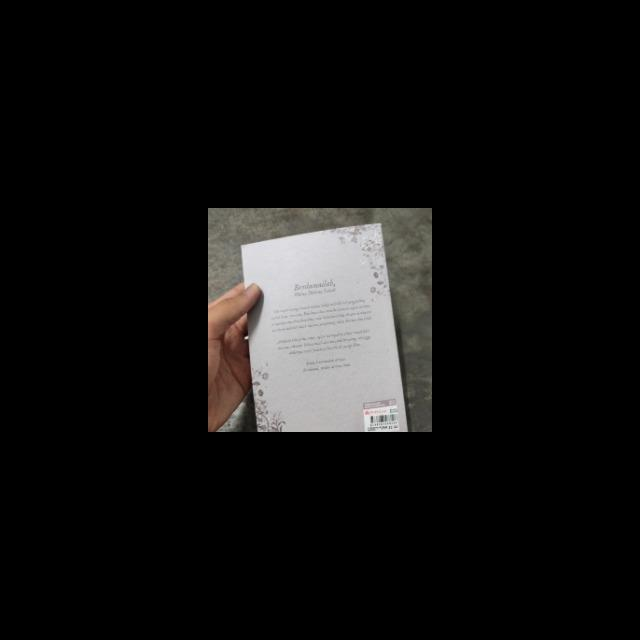paper: (234, 221, 411, 432)
